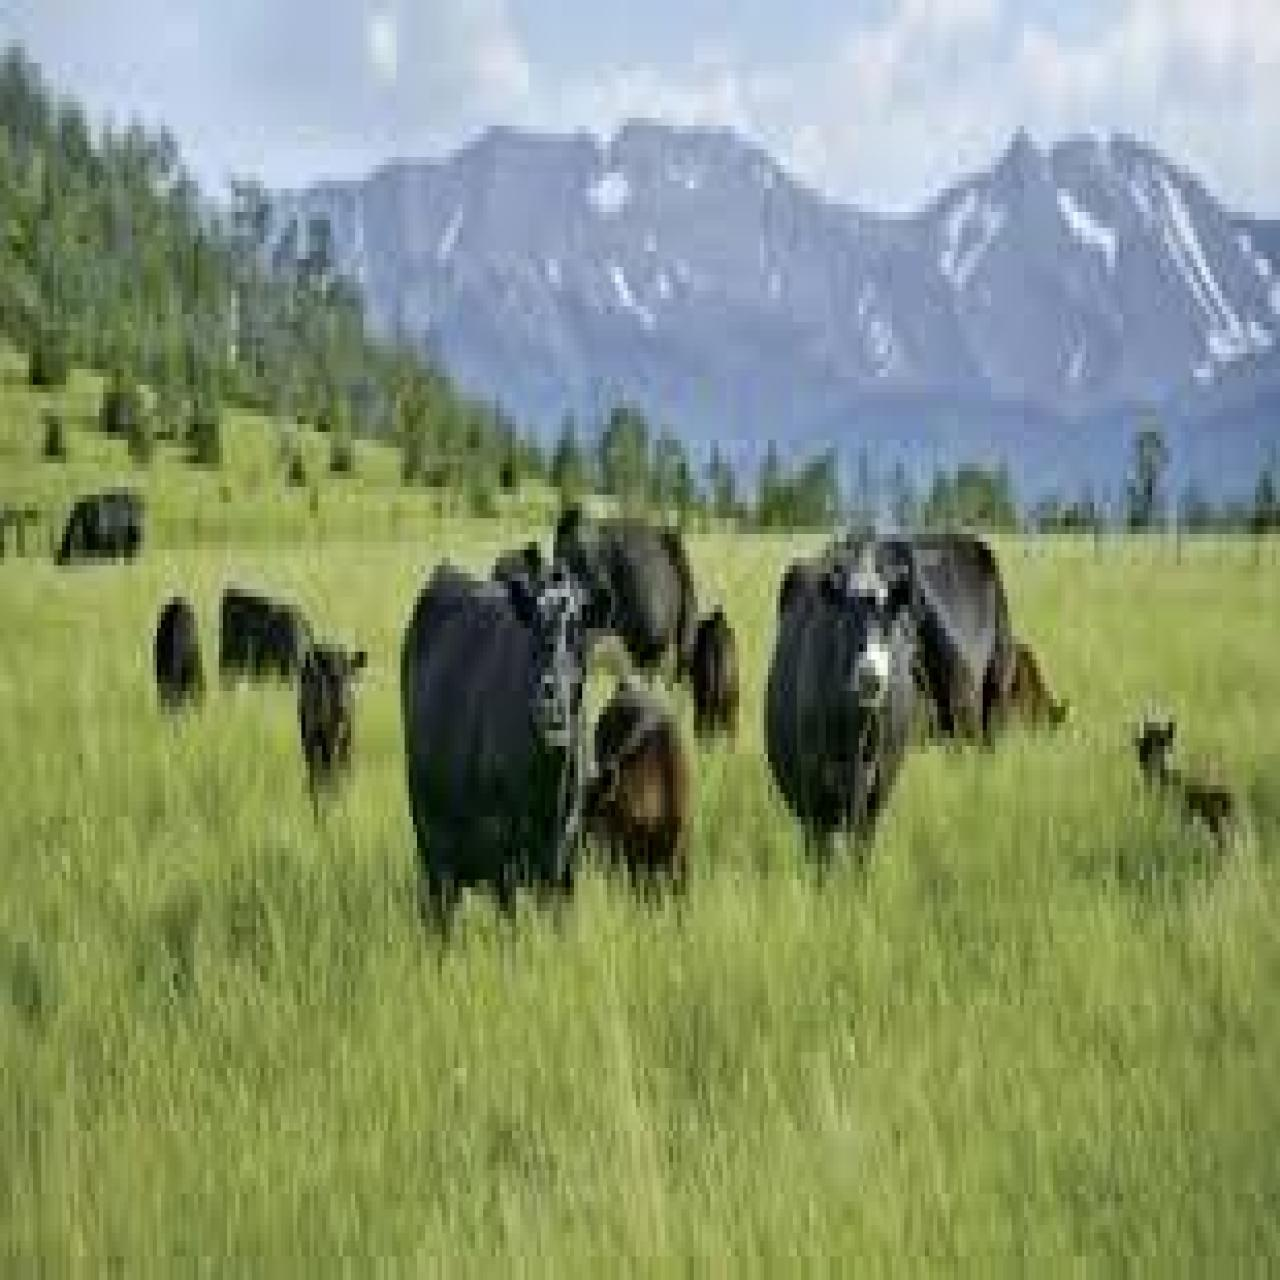cow: (396, 546, 615, 915), (762, 542, 927, 887), (843, 526, 1012, 754), (551, 486, 700, 692), (580, 683, 696, 903), (1125, 719, 1237, 837), (293, 640, 372, 797), (219, 585, 314, 679), (683, 608, 745, 750), (1003, 636, 1074, 738), (54, 491, 144, 561), (152, 597, 203, 707)
